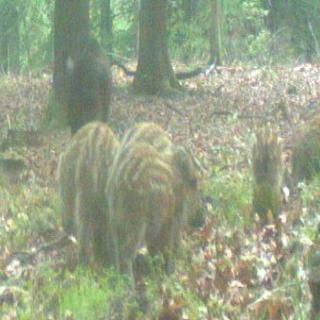Pig: (110, 148, 210, 272)
